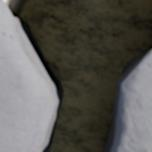broken_brick: (0, 0, 50, 151), (113, 53, 151, 151)
crack: (2, 0, 151, 151)
